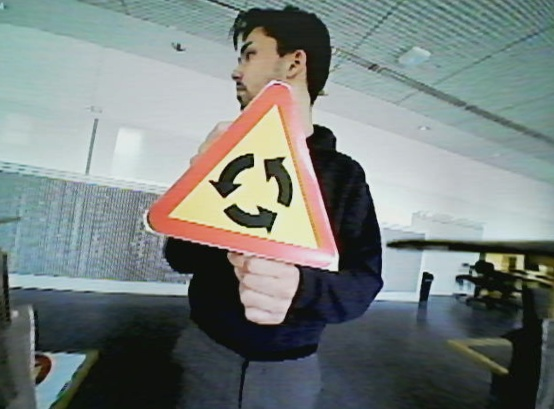roundabout_warning: (144, 74, 345, 275)
